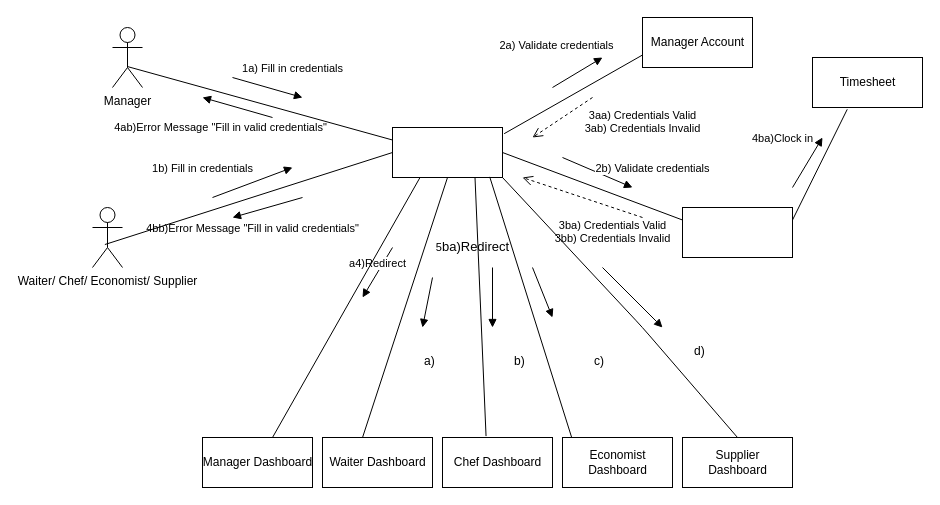
Some shapes in this 940 by 505 pixel diagram are drawn without their labels. Here are the shapes that lost their labels. From the top down, the box of each, then its label:
(392, 126, 502, 178): Login Interface
(682, 206, 792, 258): Waiter Account/ Chef Account/ Economist Account/ Supplier Account
